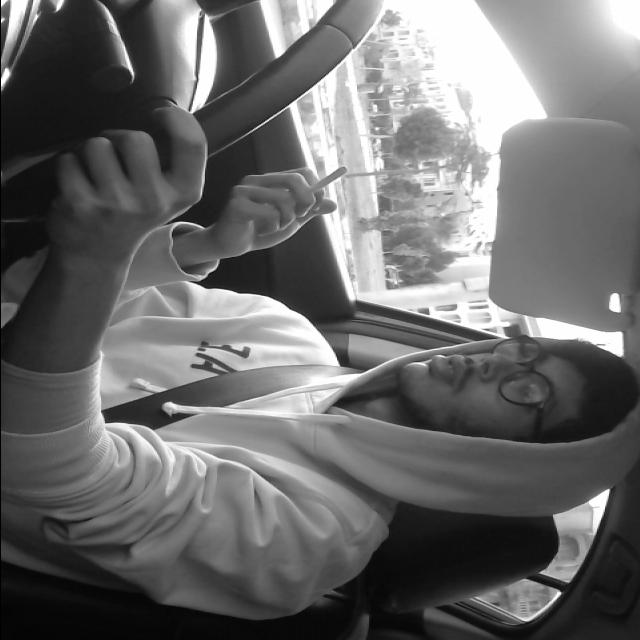smoking: (282, 164, 354, 202)
